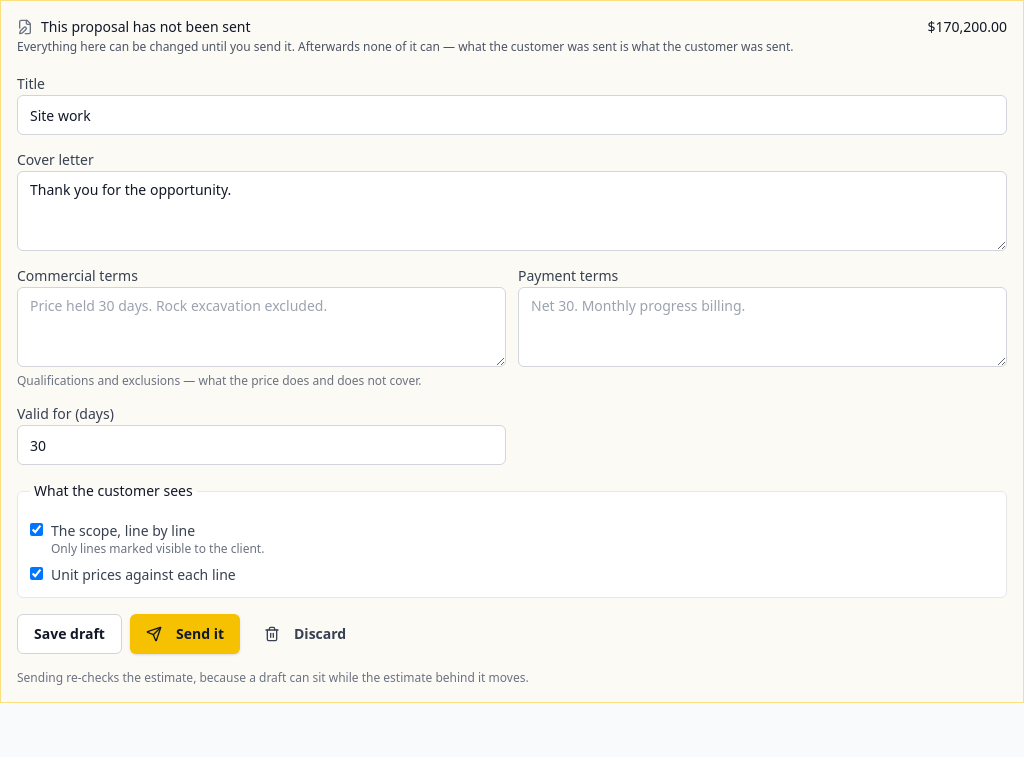
Test: the draft editor › says what the database refused
The width and height of the screenshot is (1024, 757).
Click the button "Send it". click: (185, 634)
box: x1=130 y1=614 x2=240 y2=654
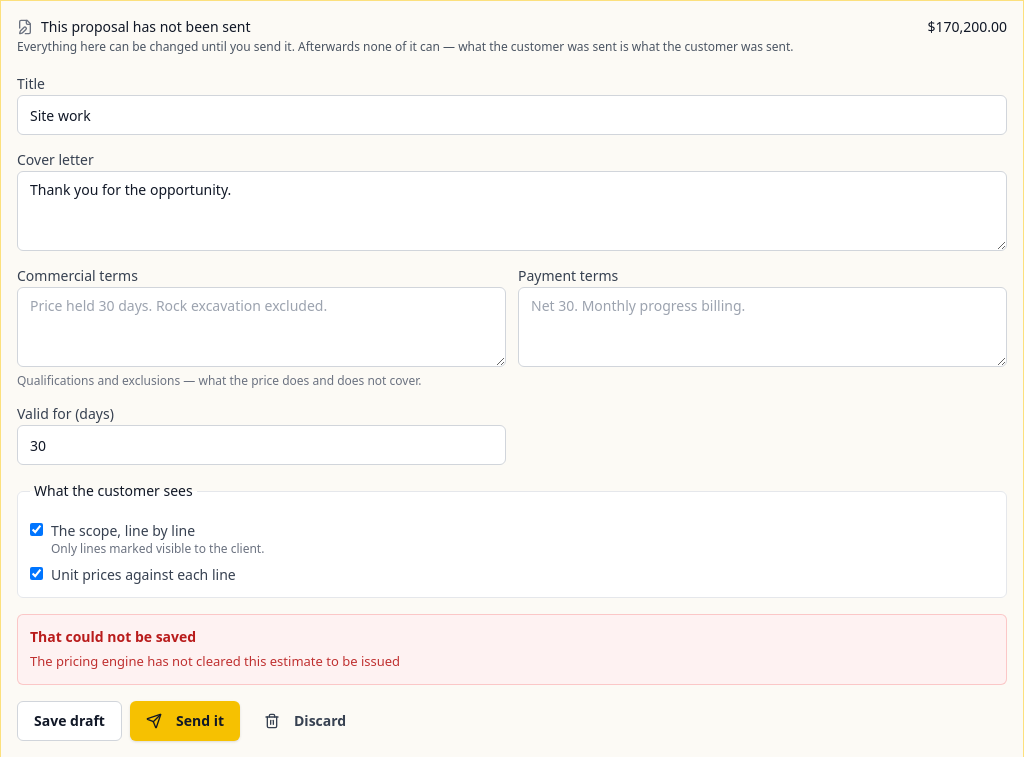
Check: the text "The pricing engine has not cleared this estimate to be issued" is shown, box x1=30 y1=651 x2=400 y2=672
